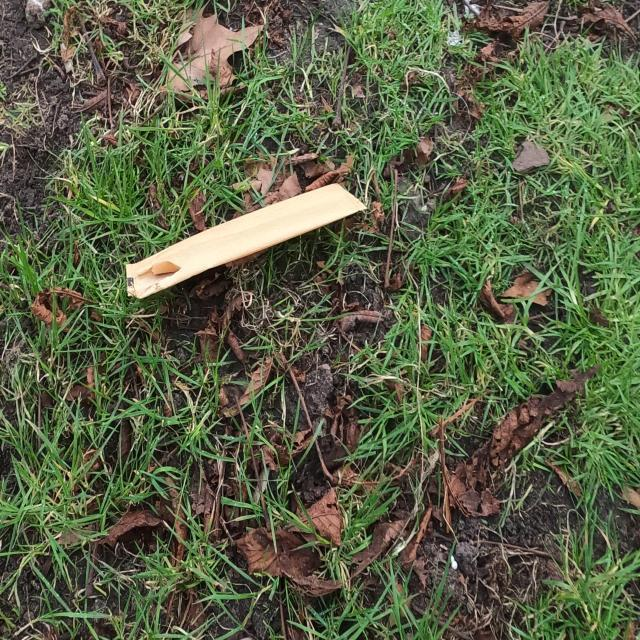Plastic: (124, 181, 370, 303)
